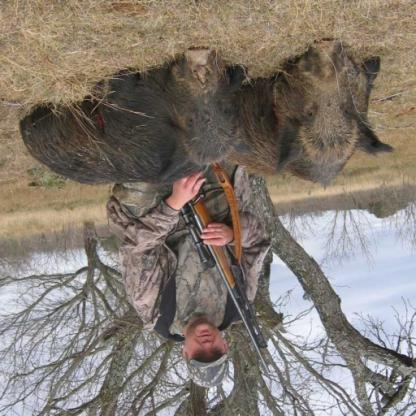boar: (45, 22, 249, 215), (226, 26, 394, 201)
